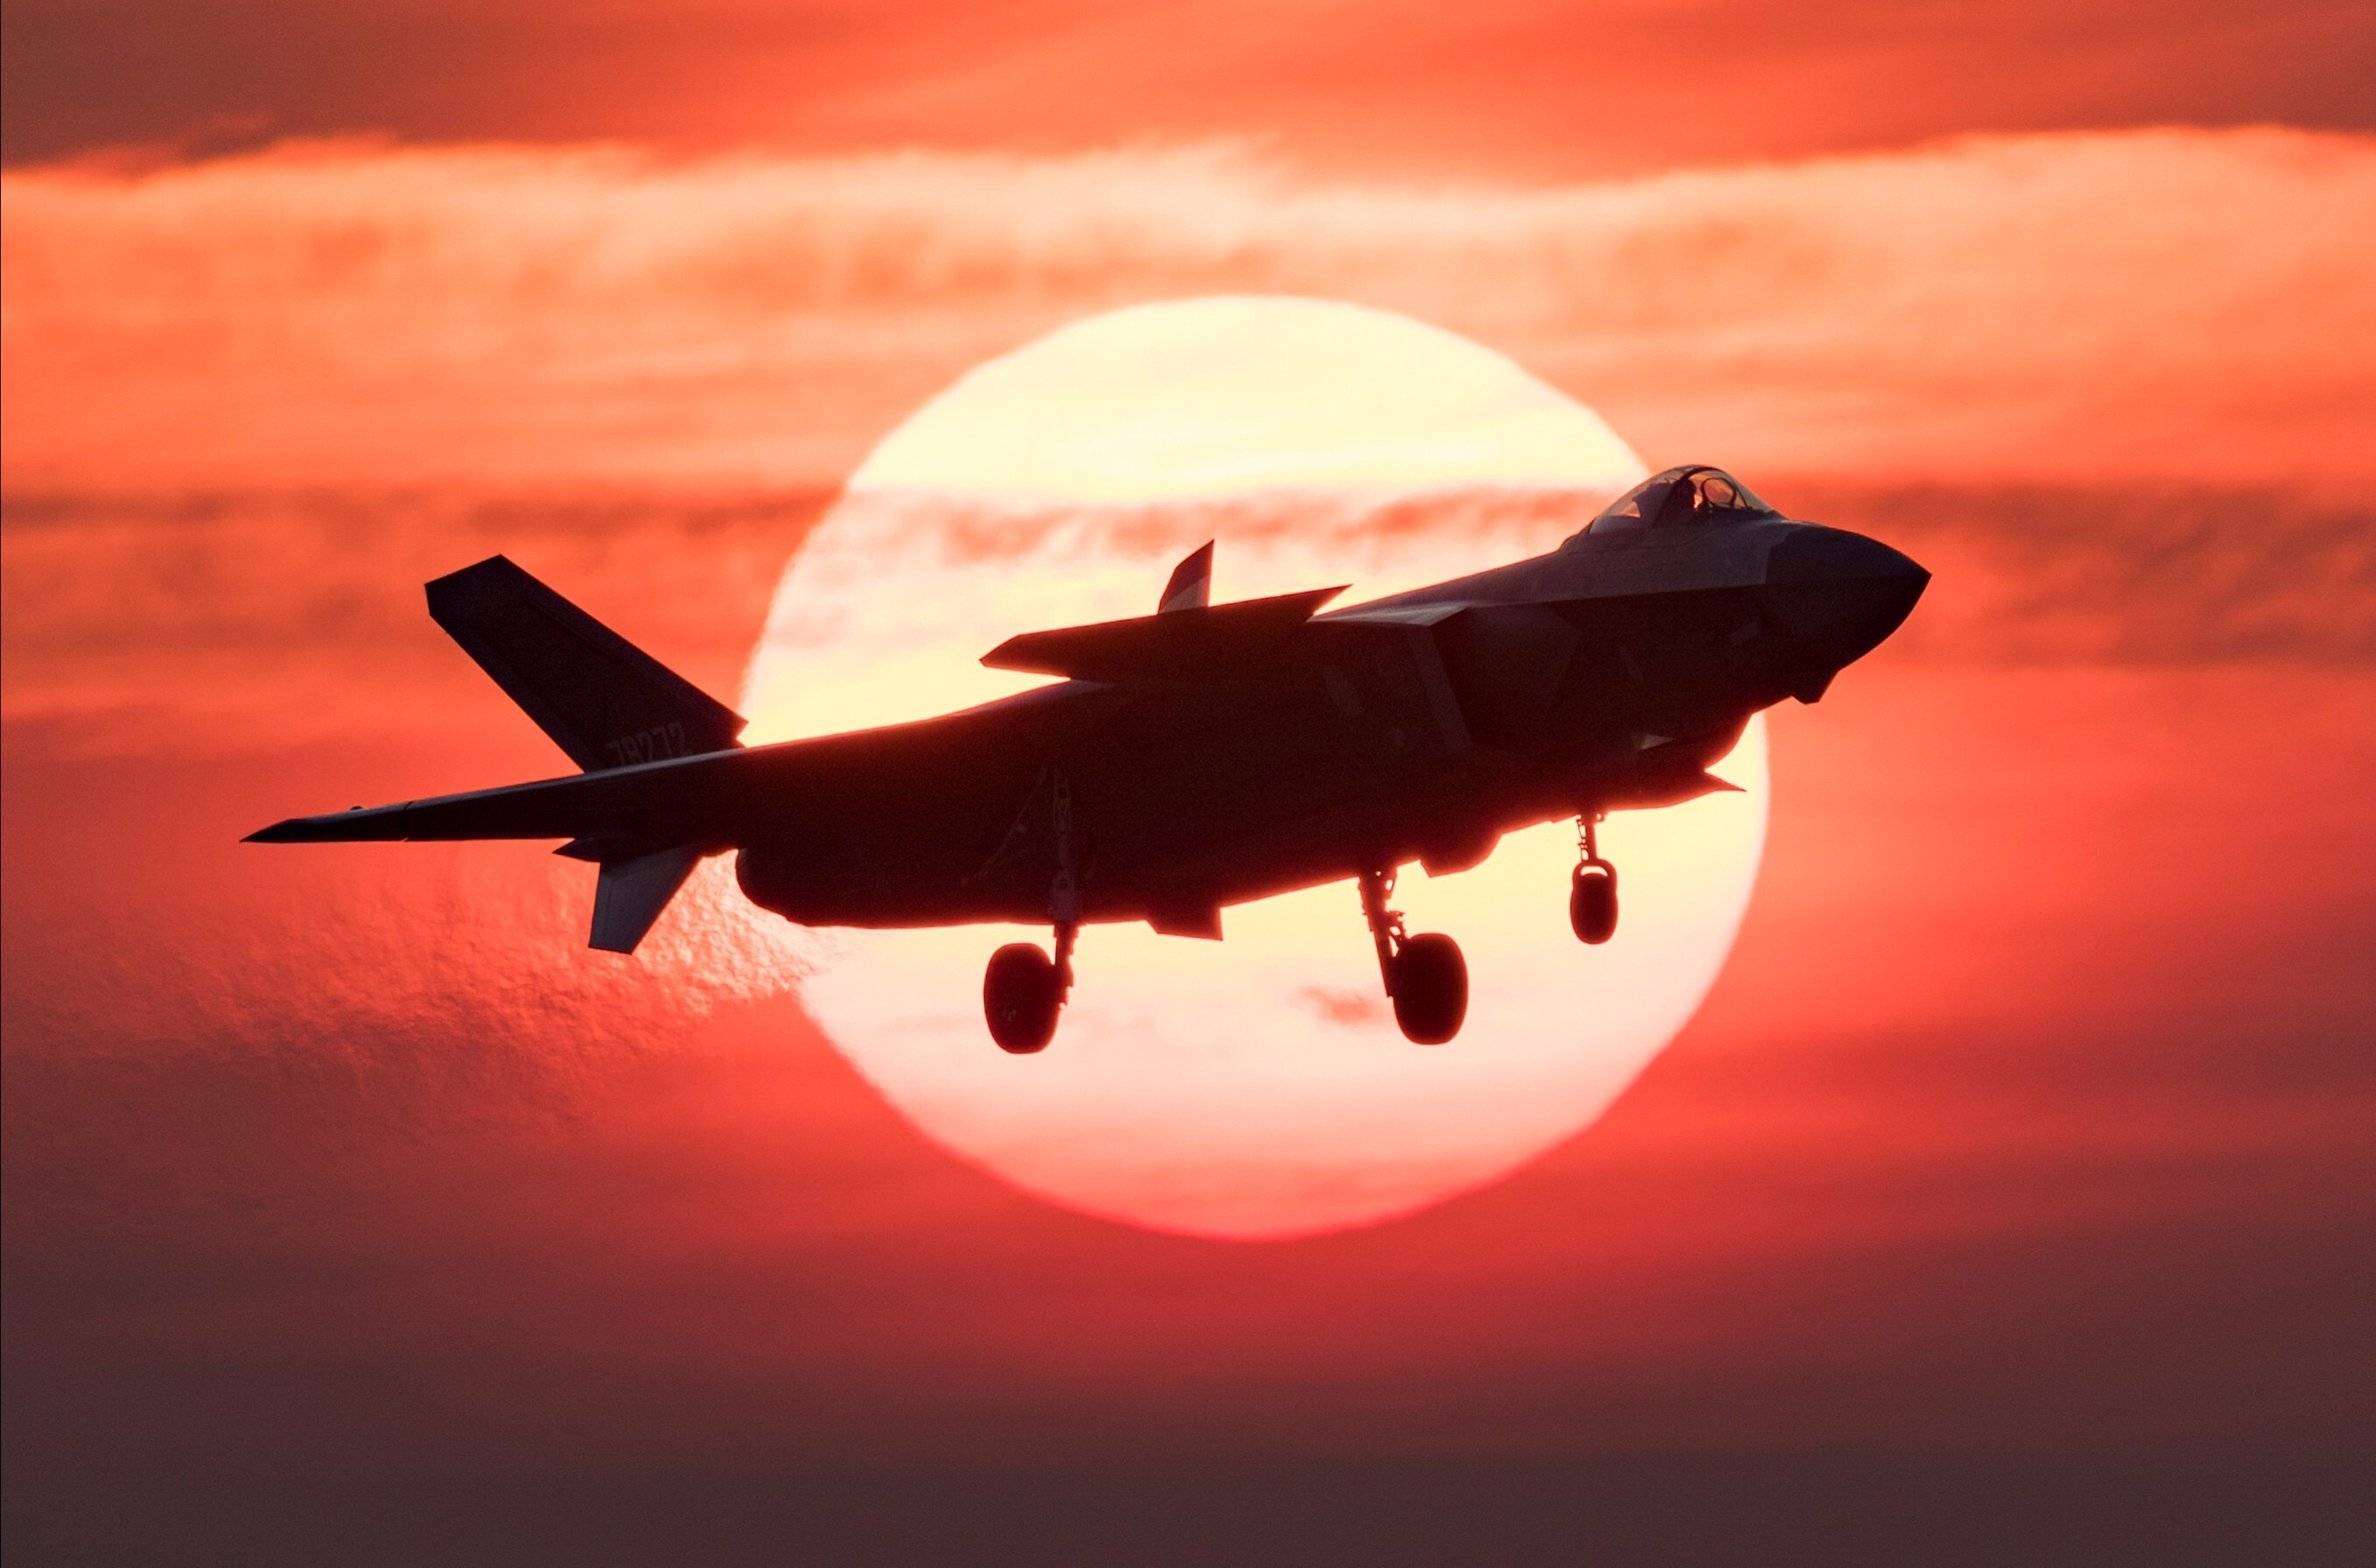J20: (238, 462, 1933, 1055)
